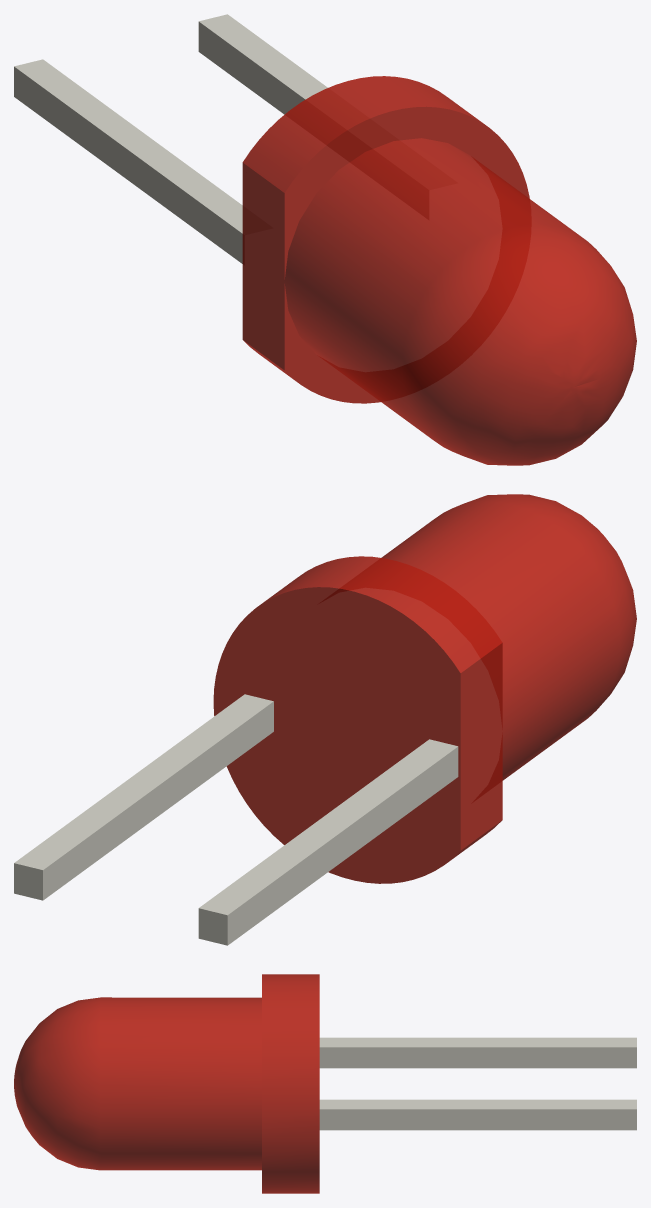
Rendered from led-d3.0.glb.
3 views of the same model, one above another, from view 1: azimuth 30°, elevation 25°; view 2: azimuth 150°, elevation 25°; view 3: azimuth 270°, elevation 25° (orthographic). The views are drawn at different scales.
Visible parts, largest first — view 1: LED-RED, PIN-01; view 2: LED-RED, PIN-01; view 3: LED-RED, PIN-01.
Part boxes in pixels (x1,y1,x2,y2): LED-RED: (242,76,636,465); PIN-01: (14,14,327,263); LED-RED: (213,494,636,883); PIN-01: (14,694,458,945); LED-RED: (14,974,319,1193); PIN-01: (319,1037,636,1130).
Size of the model in its own units: 3.4 by 3.8 by 10.8.
